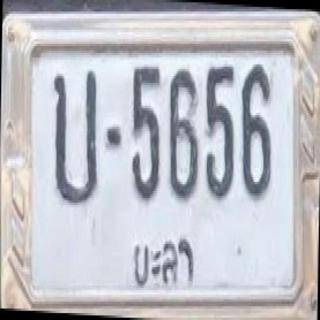A26: (45, 65, 103, 207)
N05: (200, 62, 237, 207), (125, 62, 161, 205)
N06: (161, 63, 203, 207), (238, 60, 279, 207)
P76: (129, 234, 198, 290)
